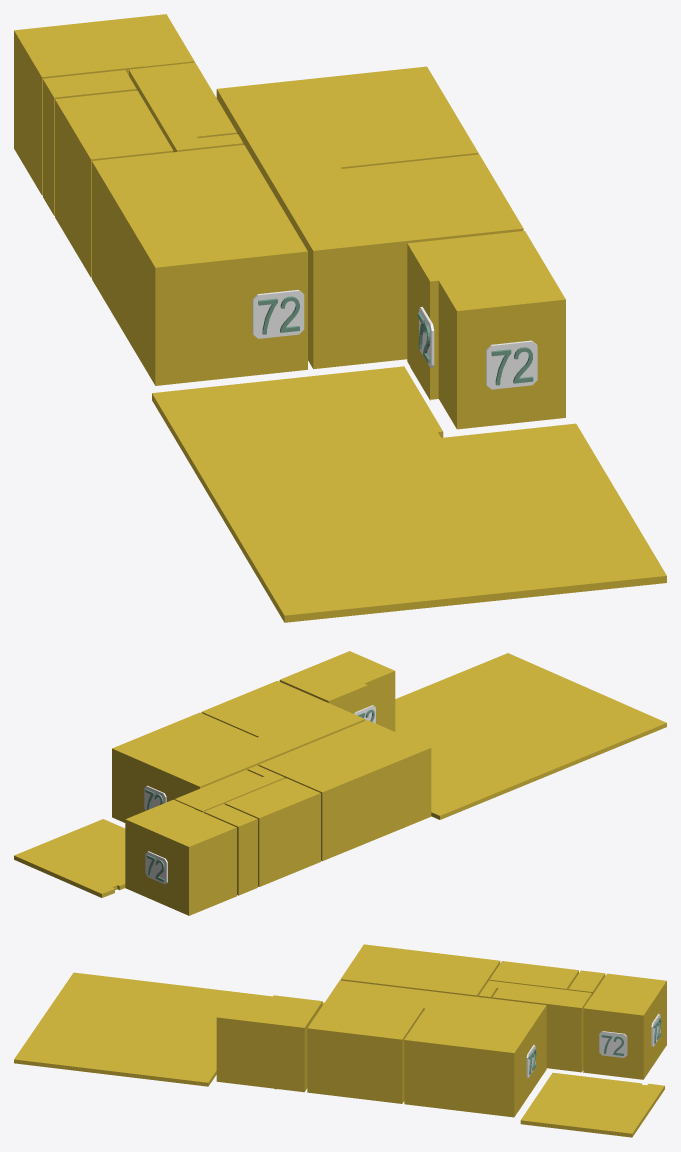
The picture shows the model from 3 angles, top to bottom: view 1: azimuth 30°, elevation 25°; view 2: azimuth 150°, elevation 25°; view 3: azimuth 270°, elevation 25°; orthographic projection. The views are drawn at different scales.
Parts seen in each view (by area): view 1: g_9, g_1, g_3, g_0, g_4, g_2, g_6, g_5, g_7, g_12, g_15; view 2: g_9, g_1, g_4, g_2, g_6, g_3, g_8, g_0, g_5, g_7, g_18; view 3: g_9, g_4, g_3, g_0, g_2, g_8, g_1, g_5, g_6, g_27, g_7.
Part boxes in pixels (bbox=[...]): g_9: bbox=[152, 366, 666, 622]; g_1: bbox=[92, 145, 307, 385]; g_3: bbox=[268, 154, 523, 369]; g_0: bbox=[407, 231, 565, 429]; g_4: bbox=[216, 66, 478, 184]; g_2: bbox=[14, 14, 194, 195]; g_6: bbox=[55, 90, 173, 277]; g_5: bbox=[129, 62, 243, 152]; g_7: bbox=[43, 70, 136, 215]; g_12: bbox=[252, 290, 304, 338]; g_15: bbox=[486, 340, 537, 389]; g_9: bbox=[395, 653, 666, 819]; g_1: bbox=[258, 720, 431, 861]; g_4: bbox=[112, 712, 287, 822]; g_2: bbox=[125, 799, 236, 915]; g_6: bbox=[225, 778, 320, 886]; g_3: bbox=[201, 680, 365, 752]; g_8: bbox=[14, 819, 125, 897]; g_0: bbox=[279, 651, 395, 731]; g_5: bbox=[174, 765, 284, 812]; g_7: bbox=[204, 804, 257, 895]; g_18: bbox=[145, 851, 167, 884]; g_9: bbox=[14, 972, 324, 1086]; g_4: bbox=[404, 992, 546, 1117]; g_3: bbox=[307, 980, 435, 1103]; g_0: bbox=[216, 992, 322, 1092]; g_2: bbox=[583, 973, 666, 1079]; g_8: bbox=[520, 1072, 664, 1137]; g_1: bbox=[340, 944, 500, 996]; g_5: bbox=[478, 980, 591, 1072]; g_6: bbox=[489, 961, 578, 989]; g_27: bbox=[599, 1031, 627, 1057]; g_7: bbox=[568, 970, 605, 995].
Size of the model in its own units: 13.36 by 2.65 by 22.86.
